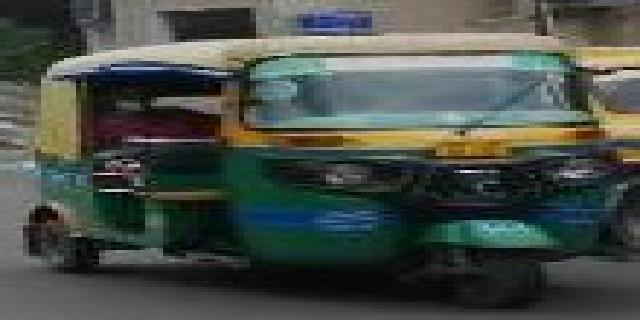Autorickshaw: (22, 30, 605, 304)
